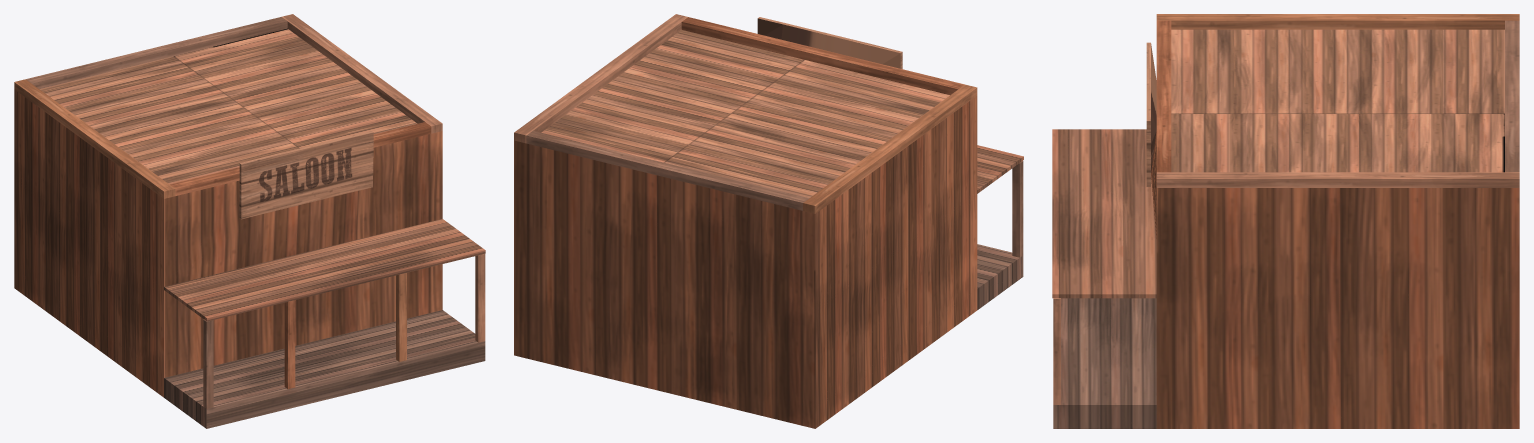
Rendered from thereturnofsaloon.FBX.
The picture shows the model from 3 angles, left to right: view 1: azimuth 30°, elevation 25°; view 2: azimuth 150°, elevation 25°; view 3: azimuth 270°, elevation 25°; orthographic projection. The views are drawn at different scales.
Visible parts, largest first — view 1: Box001; view 2: Box001; view 3: Box001.
Part boxes in pixels (x1,y1,x2,y2): Box001: (14, 14, 485, 428); Box001: (514, 14, 1023, 428); Box001: (1052, 14, 1519, 428).
Bounding box in the file's own units: 792 × 594 × 949.
